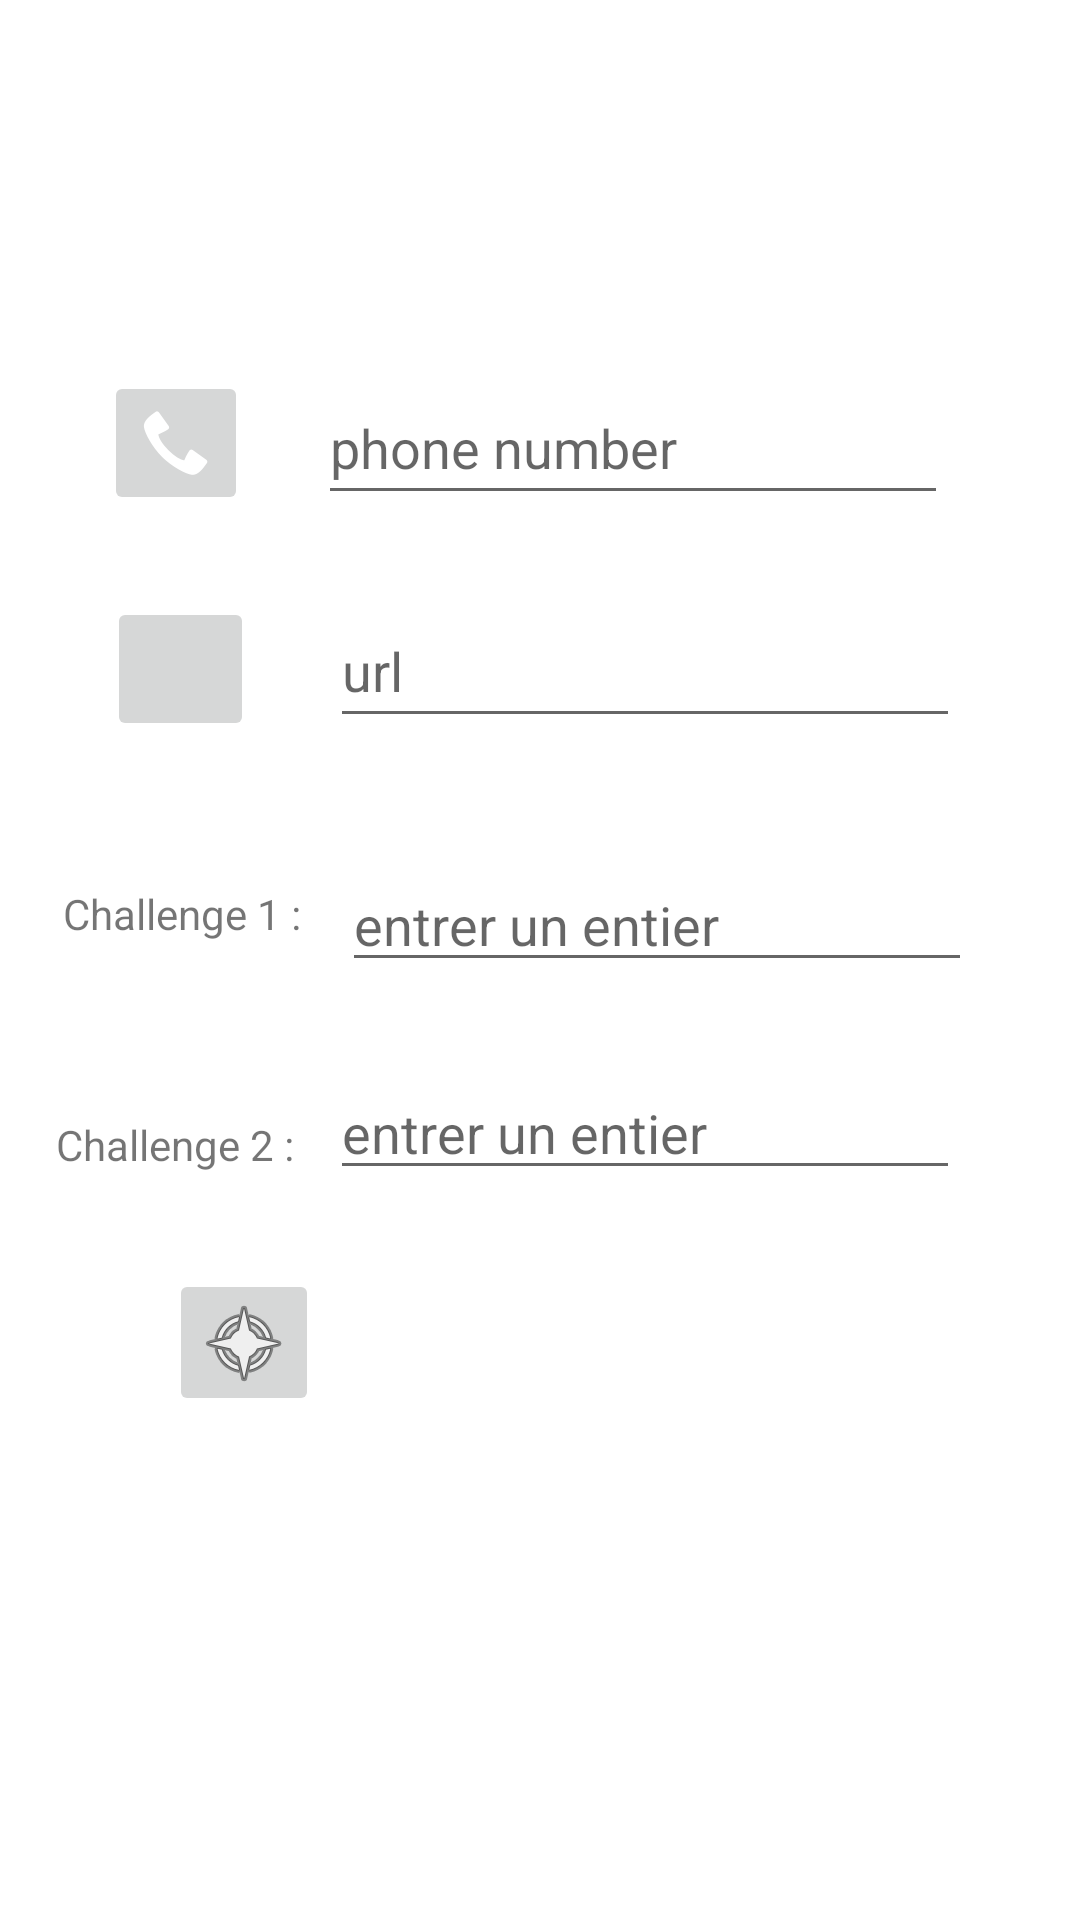

Locate icon controls on the screen. Image size 1080*1920, boxes as (x1, y1, x2, y2).
compass: (181, 1287, 307, 1398)
phone call: (116, 389, 236, 497)
